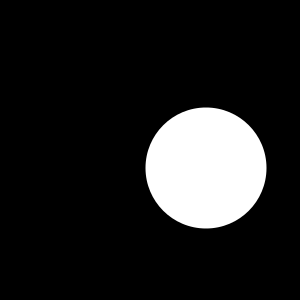rectangle: (146, 108, 266, 228)
